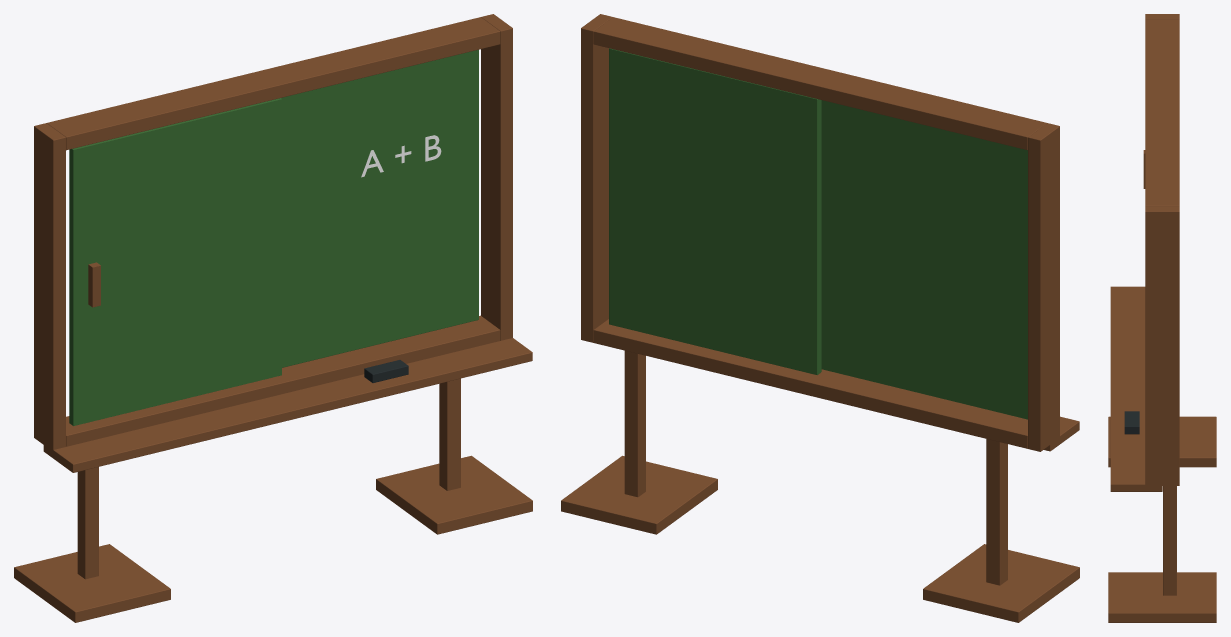
File: source-edit.glb
3 views of the same model, side by side, from view 1: azimuth 30°, elevation 25°; view 2: azimuth 150°, elevation 25°; view 3: azimuth 270°, elevation 25° (orthographic). The views are drawn at different scales.
Visible parts, largest first — view 1: Sliding_Chalk_Panel, Fixed_Chalk_Panel, Wood_Frame.003, Eraser_Shelf, Wood_Frame, Wood_Frame.002, Wood_Frame.001, Foot.001, Foot, Support_Post, Support_Post.001, Eraser; view 2: Fixed_Chalk_Panel, Sliding_Chalk_Panel, Wood_Frame.003, Wood_Frame.002, Wood_Frame, Wood_Frame.001, Foot.001, Foot, Support_Post.001, Support_Post; view 3: Wood_Frame.001, Eraser_Shelf, Wood_Frame.003, Foot.001, Foot, Support_Post.001, Eraser, Wood_Frame.
Boxes of the visible parts, x1,y1,x2,y2 form: Sliding_Chalk_Panel: (69, 98, 281, 425); Fixed_Chalk_Panel: (281, 49, 478, 367); Wood_Frame.003: (47, 17, 500, 150); Eraser_Shelf: (43, 338, 532, 472); Wood_Frame: (34, 123, 65, 449); Wood_Frame.002: (66, 315, 500, 446); Wood_Frame.001: (481, 14, 512, 340); Foot.001: (376, 455, 532, 534); Foot: (14, 544, 170, 622); Support_Post: (77, 467, 98, 579); Support_Post.001: (439, 378, 460, 490); Eraser: (364, 360, 408, 382); Fixed_Chalk_Panel: (609, 48, 821, 374); Sliding_Chalk_Panel: (821, 100, 1027, 419); Wood_Frame.003: (593, 17, 1046, 150); Wood_Frame.002: (593, 319, 1027, 448); Wood_Frame: (1028, 123, 1059, 451); Wood_Frame.001: (581, 14, 612, 342); Foot.001: (561, 455, 717, 534); Foot: (923, 544, 1079, 622); Support_Post.001: (624, 330, 645, 497); Support_Post: (986, 424, 1007, 585); Wood_Frame.001: (1145, 206, 1179, 485); Eraser_Shelf: (1110, 286, 1162, 491); Wood_Frame.003: (1145, 19, 1179, 206); Foot.001: (1108, 572, 1216, 622); Foot: (1108, 416, 1216, 467); Support_Post.001: (1163, 486, 1176, 595); Eraser: (1124, 411, 1139, 434); Wood_Frame: (1145, 14, 1179, 19).
Bounding box in the file's own units: 2.16 × 2.1 × 0.5.
